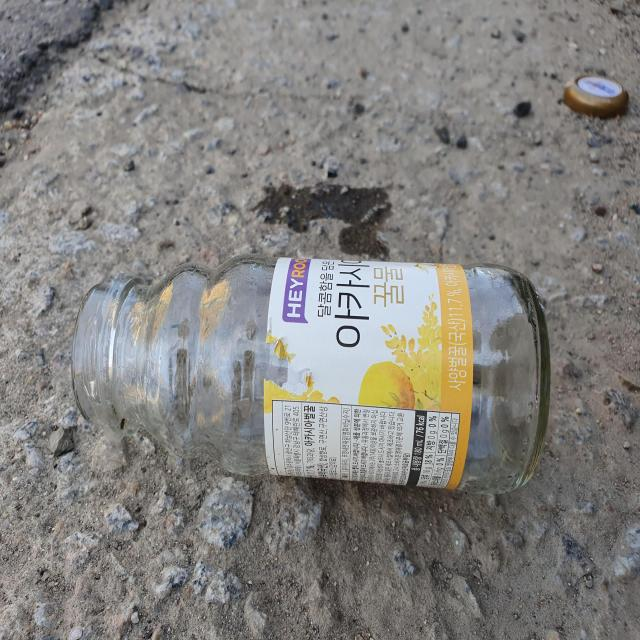glass: (71, 256, 551, 494)
